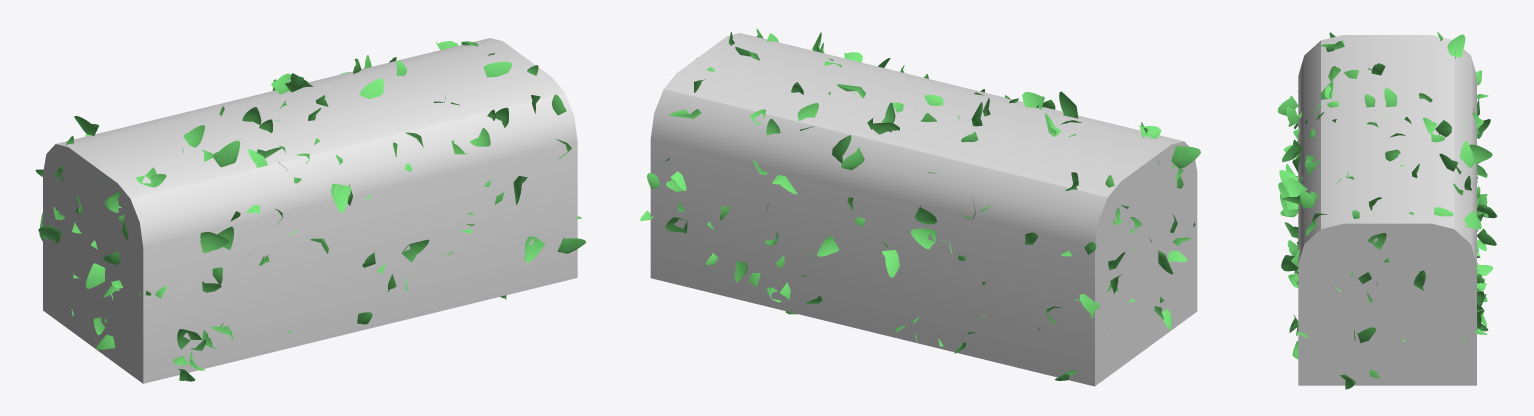
Rendered from Hedge - Copy.fbx.
3 renders of one model, left to right at view 1: azimuth 30°, elevation 25°; view 2: azimuth 150°, elevation 25°; view 3: azimuth 270°, elevation 25°, orthographic. The views are drawn at different scales.
Parts seen in each view (by area): view 1: Cube.001; view 2: Cube.001; view 3: Cube.001, Cube.001|Plane.024|Dupli|131, Cube.001|Plane.024|Dupli|142, Cube.001|Plane.024|Dupli|144, Cube.001|Plane.024|Dupli|128.
Part boxes in pixels (left/top/right/bottom): Cube.001: left=43, top=38, right=577, bottom=383; Cube.001: left=650, top=33, right=1197, bottom=386; Cube.001: left=1298, top=35, right=1476, bottom=385; Cube.001|Plane.024|Dupli|131: left=1447, top=34, right=1465, bottom=57; Cube.001|Plane.024|Dupli|142: left=1469, top=144, right=1492, bottom=163; Cube.001|Plane.024|Dupli|144: left=1460, top=141, right=1474, bottom=167; Cube.001|Plane.024|Dupli|128: left=1287, top=178, right=1307, bottom=196.
Size of the model in its own units: 5.78 by 2.72 by 2.98.
